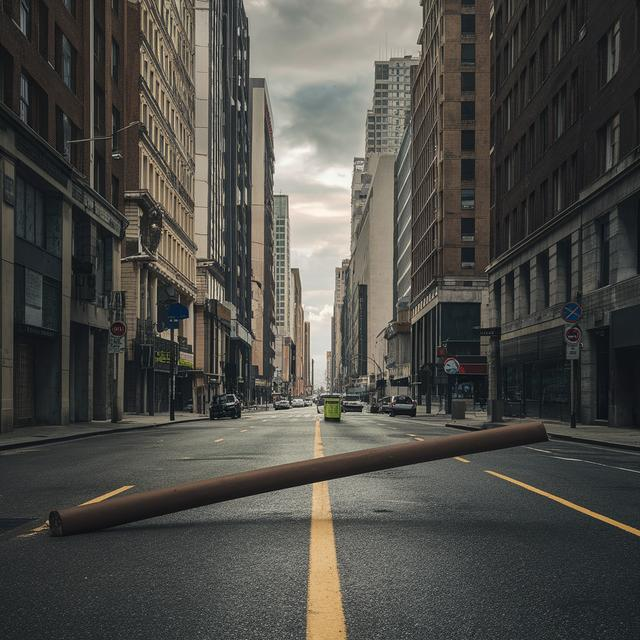Inclined Pole: (39, 418, 554, 535)
